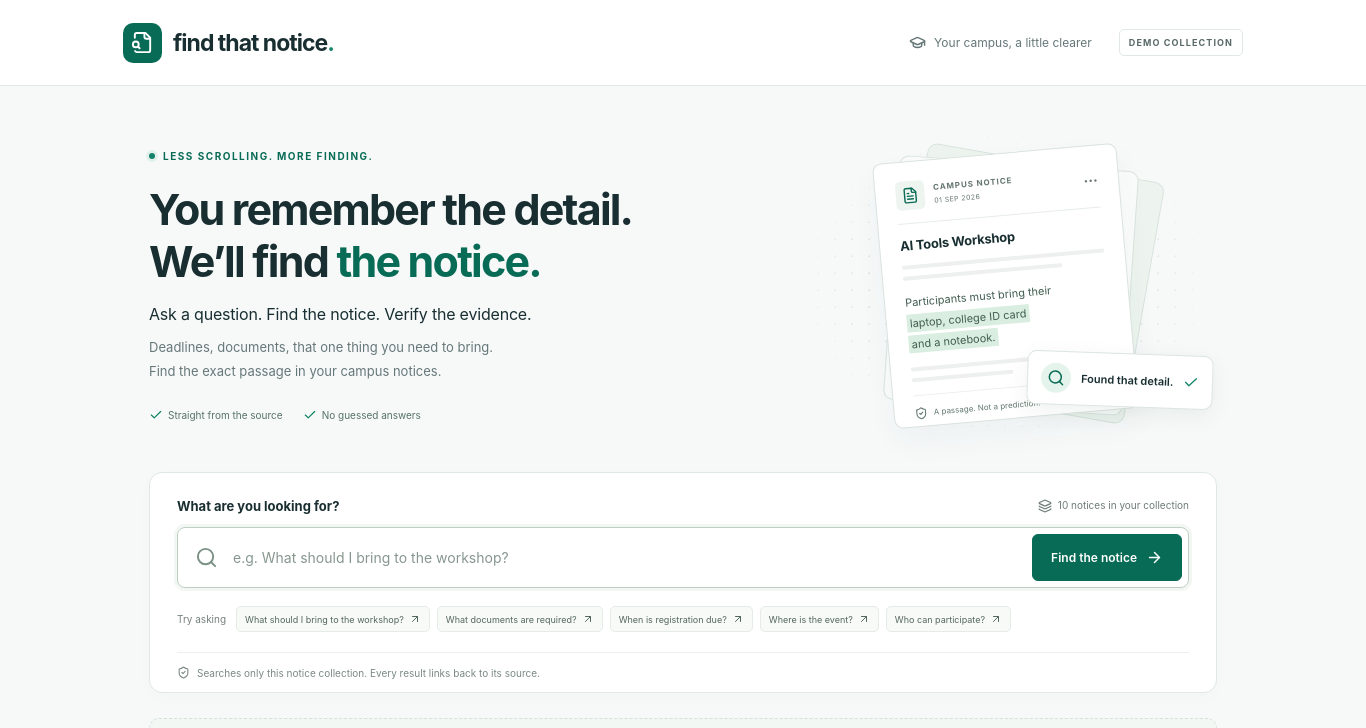
Test: Evidence search › keeps both passages visible in a revision warning
Type "registration deadline" into the field at [625, 558], box [231,536,1019,580]
Then press Enter
(page scrolled)
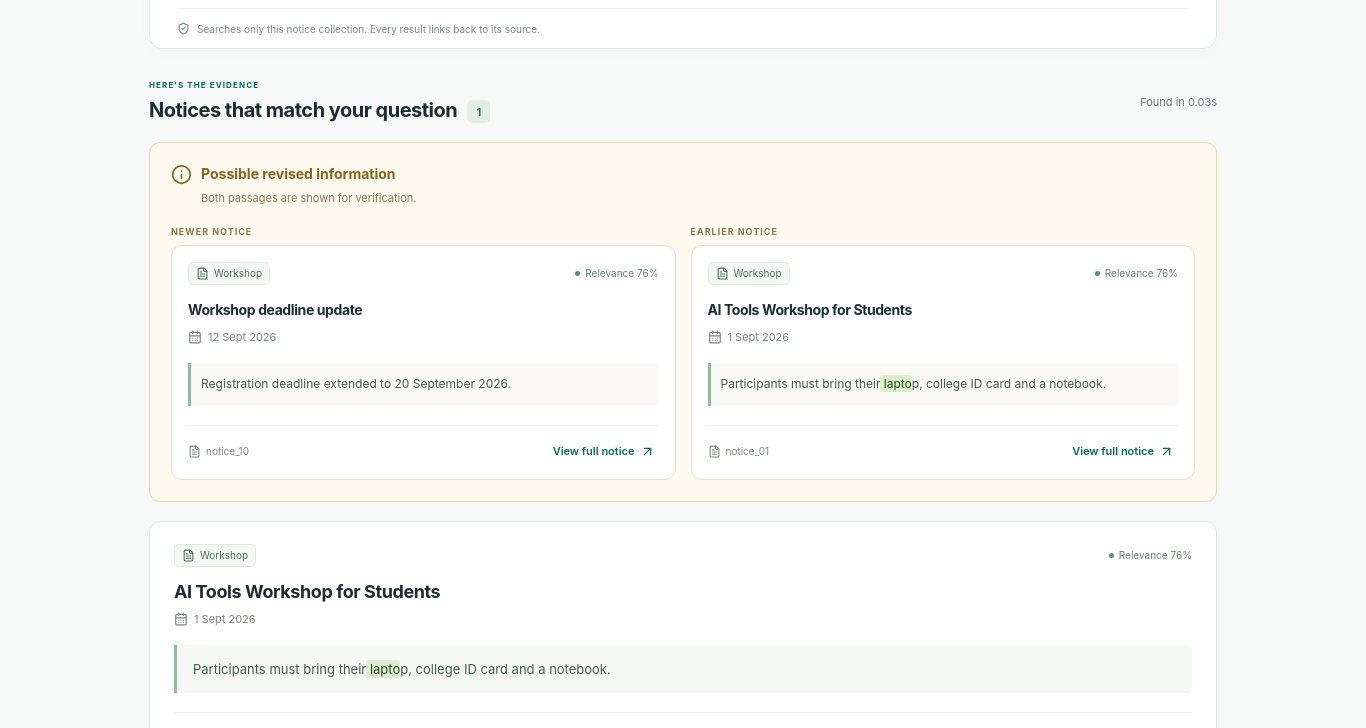
Now the heading "Possible revised information" is shown, box [201,165,416,182]
Now the text "NEWER NOTICE" is shown, box [171,226,252,237]
Now the text "EARLIER NOTICE" is shown, box [690,226,778,237]
